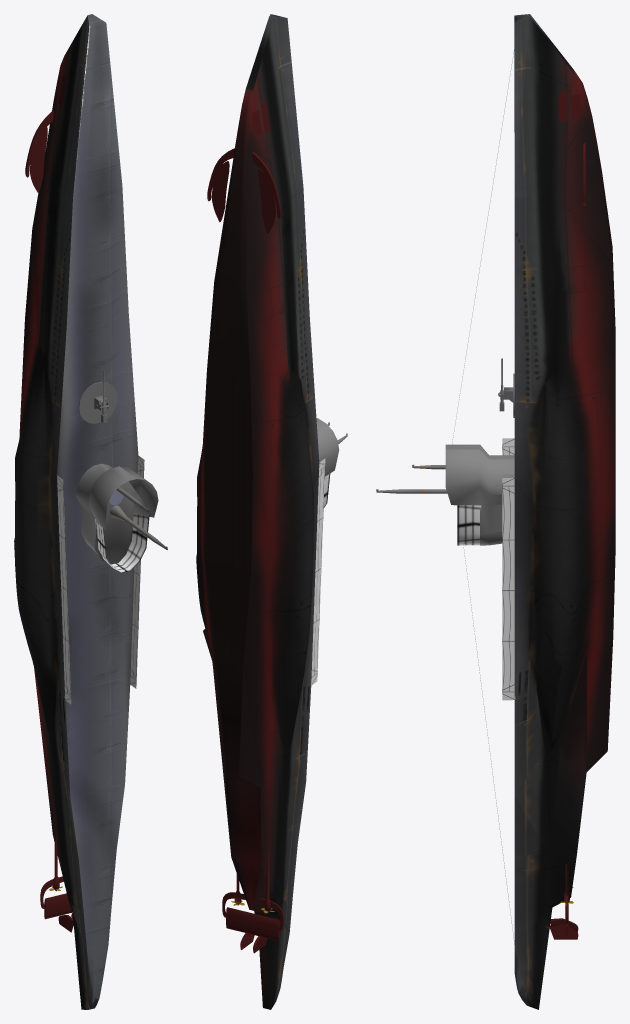
Rendered from submarine.obj.
3 views of the same model, side by side, from view 1: azimuth 30°, elevation 25°; view 2: azimuth 150°, elevation 25°; view 3: azimuth 270°, elevation 25° (orthographic).
Parts seen in each view (by area): view 1: Box01, Cylinder01, Box02, Cylinder06, Cylinder08, Line08, Line03, Line10, Cylinder02; view 2: Box01, Box02, Line03, Cylinder01, Line12, Line08, Line10; view 3: Box01, Cylinder01, Box02, Cylinder06.
Part boxes in pixels (x1=…): Box01: x1=14, y1=14, x2=138, y2=1009; Cylinder01: x1=76, y1=463, x2=158, y2=564; Box02: x1=57, y1=455, x2=144, y2=704; Cylinder06: x1=96, y1=513, x2=149, y2=572; Cylinder08: x1=78, y1=381, x2=117, y2=423; Line08: x1=29, y1=127, x2=47, y2=192; Line03: x1=44, y1=893, x2=72, y2=919; Line10: x1=25, y1=110, x2=53, y2=177; Cylinder02: x1=110, y1=505, x2=167, y2=549; Box01: x1=196, y1=14, x2=319, y2=1009; Box02: x1=311, y1=458, x2=325, y2=685; Line03: x1=226, y1=907, x2=279, y2=940; Cylinder01: x1=316, y1=418, x2=339, y2=476; Line12: x1=211, y1=161, x2=229, y2=222; Line08: x1=258, y1=168, x2=275, y2=233; Line10: x1=252, y1=152, x2=281, y2=218; Box01: x1=514, y1=14, x2=615, y2=1009; Cylinder01: x1=445, y1=444, x2=514, y2=545; Box02: x1=502, y1=438, x2=515, y2=700; Cylinder06: x1=457, y1=505, x2=481, y2=545.
Bounding box in the file's own units: 2.31 × 20 × 4.37.
Materials: 11 (4 with a texture image).
